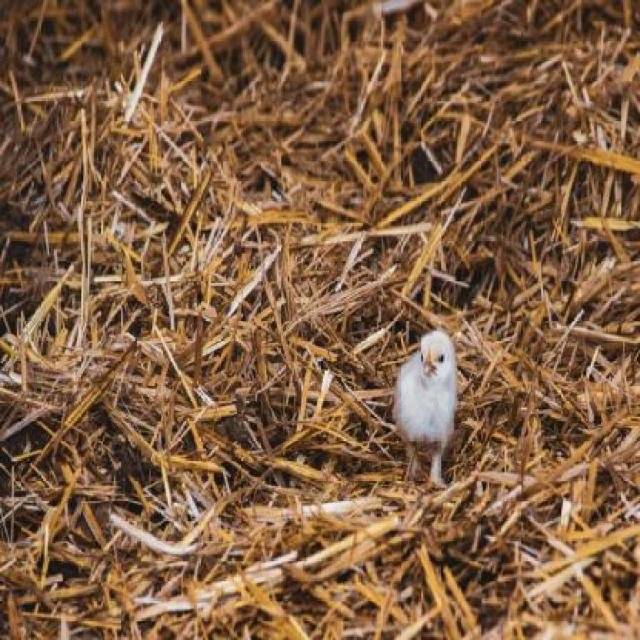poussin: (394, 328, 460, 486)
